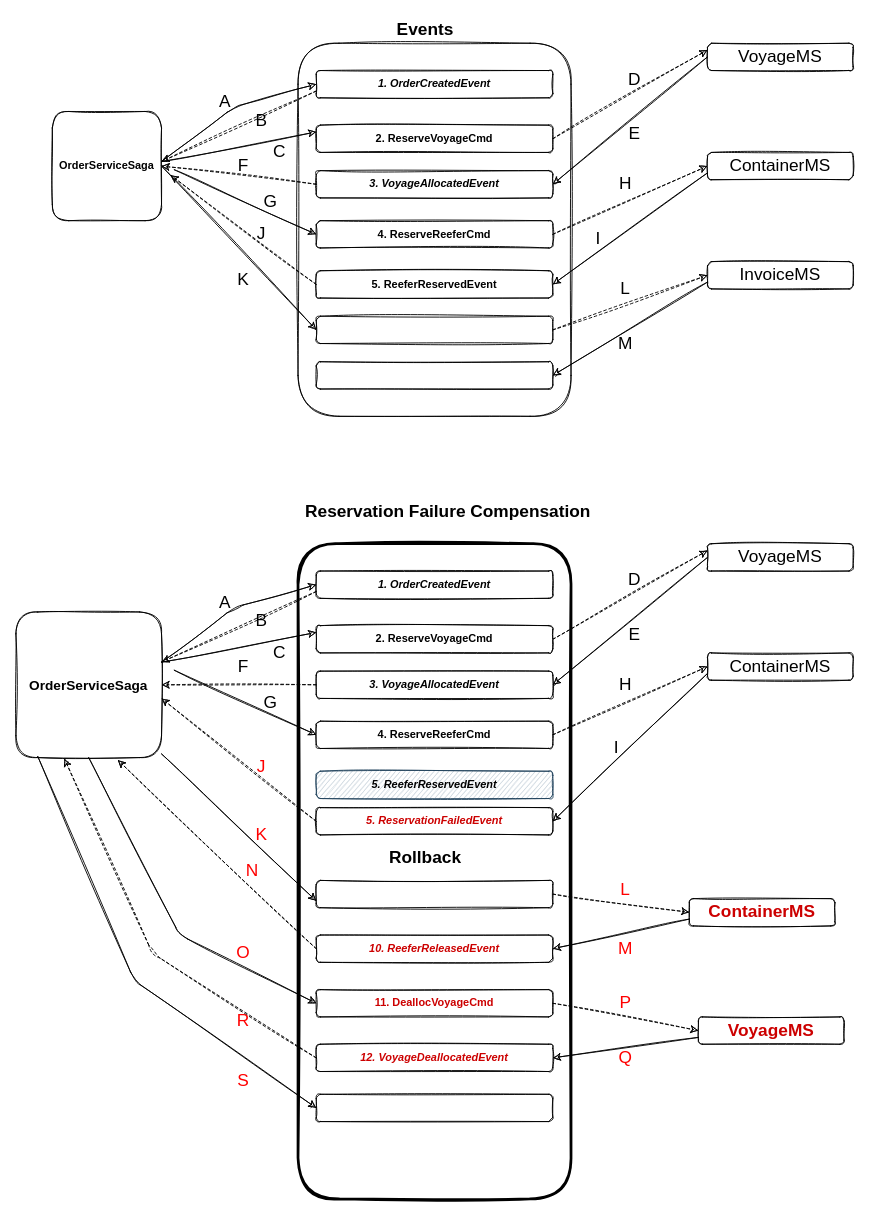
The diagram is 869 pixels wide and 1216 high, and some of its shapes have lost their labels. The box of each missing label's shape, as (x1, y1, x2, y2) in pixels:
13. OrderCancelledEvent: (315, 1093, 553, 1122)
6. ProcessPaymentCmd: (315, 315, 553, 344)
7. PaymentProcessedEvent: (315, 361, 553, 389)
9. ReleaseReeferCmd: (315, 880, 553, 908)
